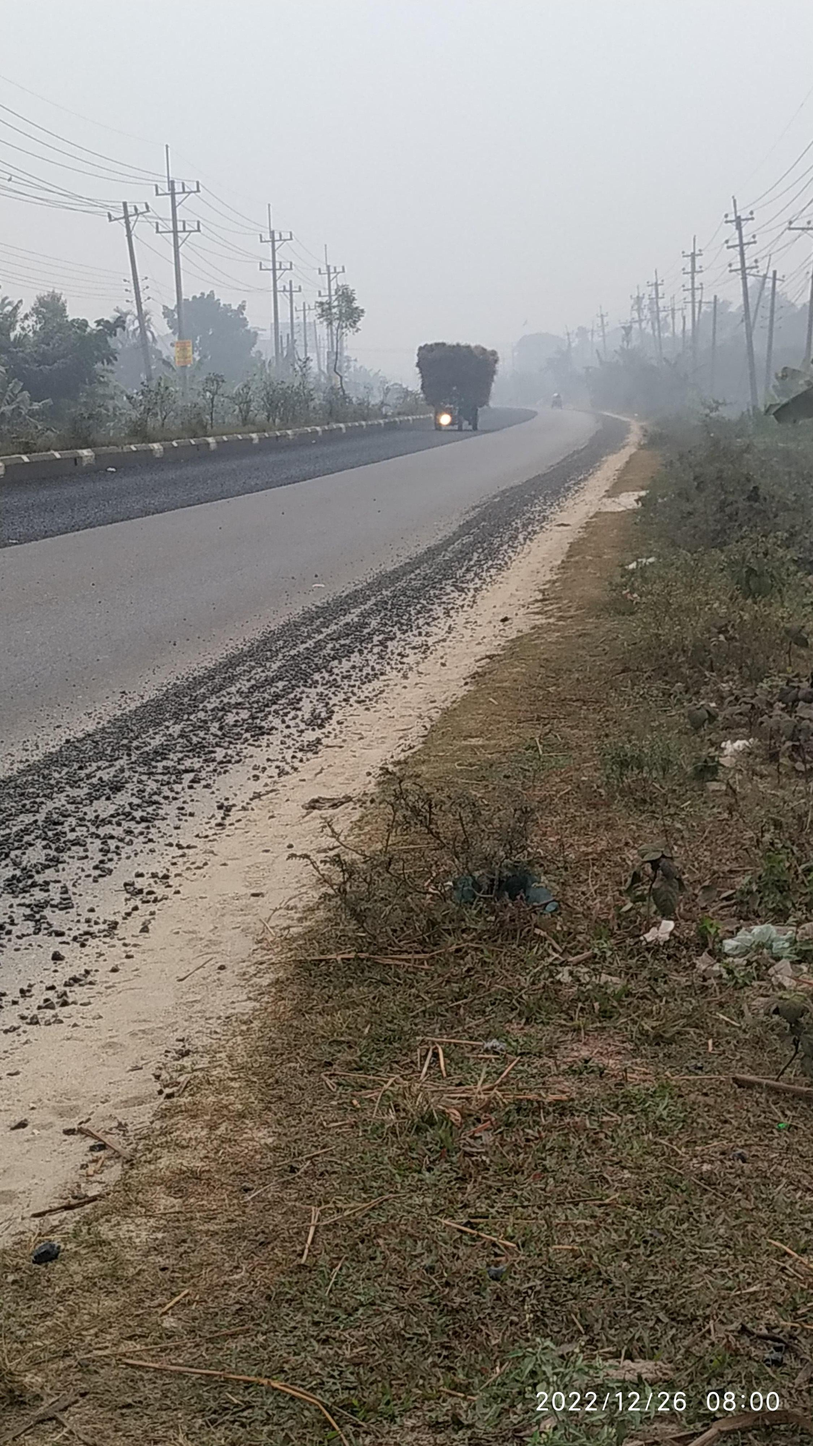Truck: (405, 333, 516, 434)
